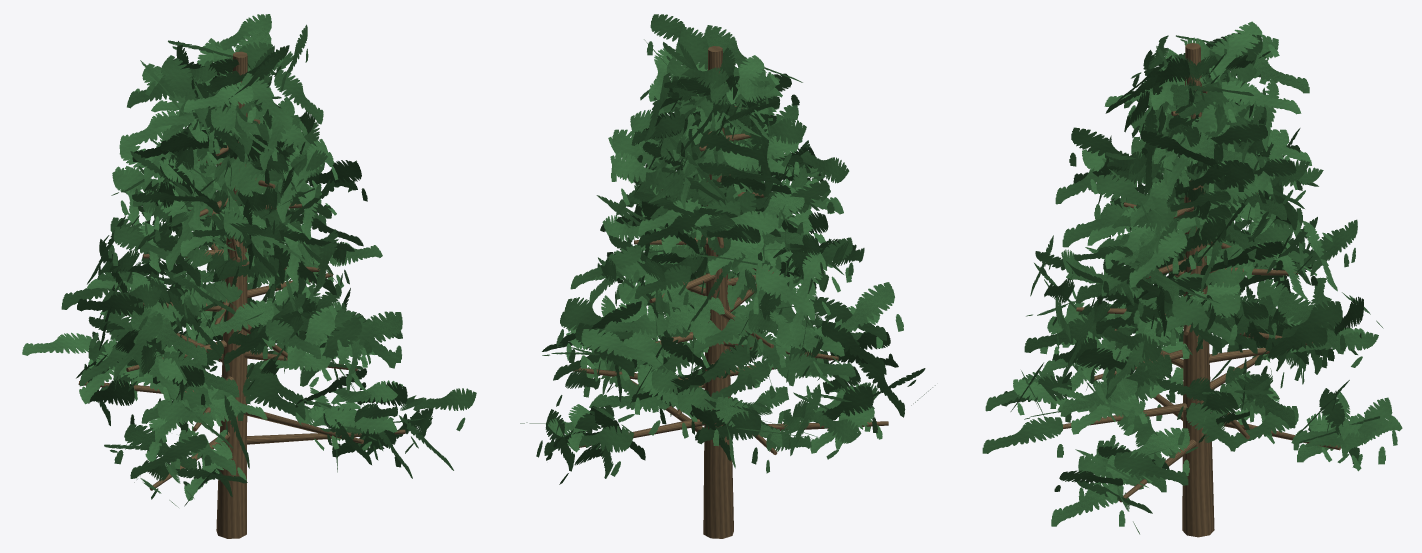
The picture shows the model from 3 angles, left to right: view 1: azimuth 30°, elevation 25°; view 2: azimuth 150°, elevation 25°; view 3: azimuth 270°, elevation 25°; orthographic projection.
Visible parts, largest first — view 1: pine-needle, pine-bark; view 2: pine-needle, pine-bark; view 3: pine-needle, pine-bark.
Boxes of the visible parts, x1,y1,x2,y2 form: pine-needle: (22,14,476,507); pine-bark: (78,51,405,538); pine-needle: (520,14,935,484); pine-bark: (573,46,888,538); pine-needle: (982,21,1402,534); pine-bark: (1063,43,1340,537).
Bounding box in the file's own units: 7.62 × 10.38 × 8.09.
2 materials, 2 textured.
